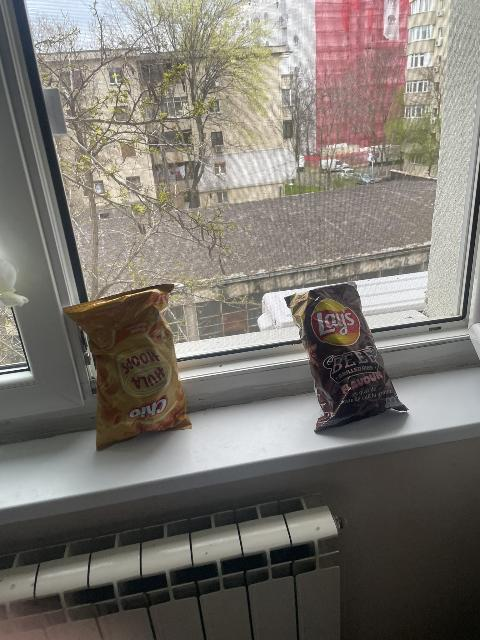Chio Hula Hoops Cheese 70g: (61, 288, 193, 450)
Lays Beef Grilled Ribs 125g: (283, 278, 407, 429)
